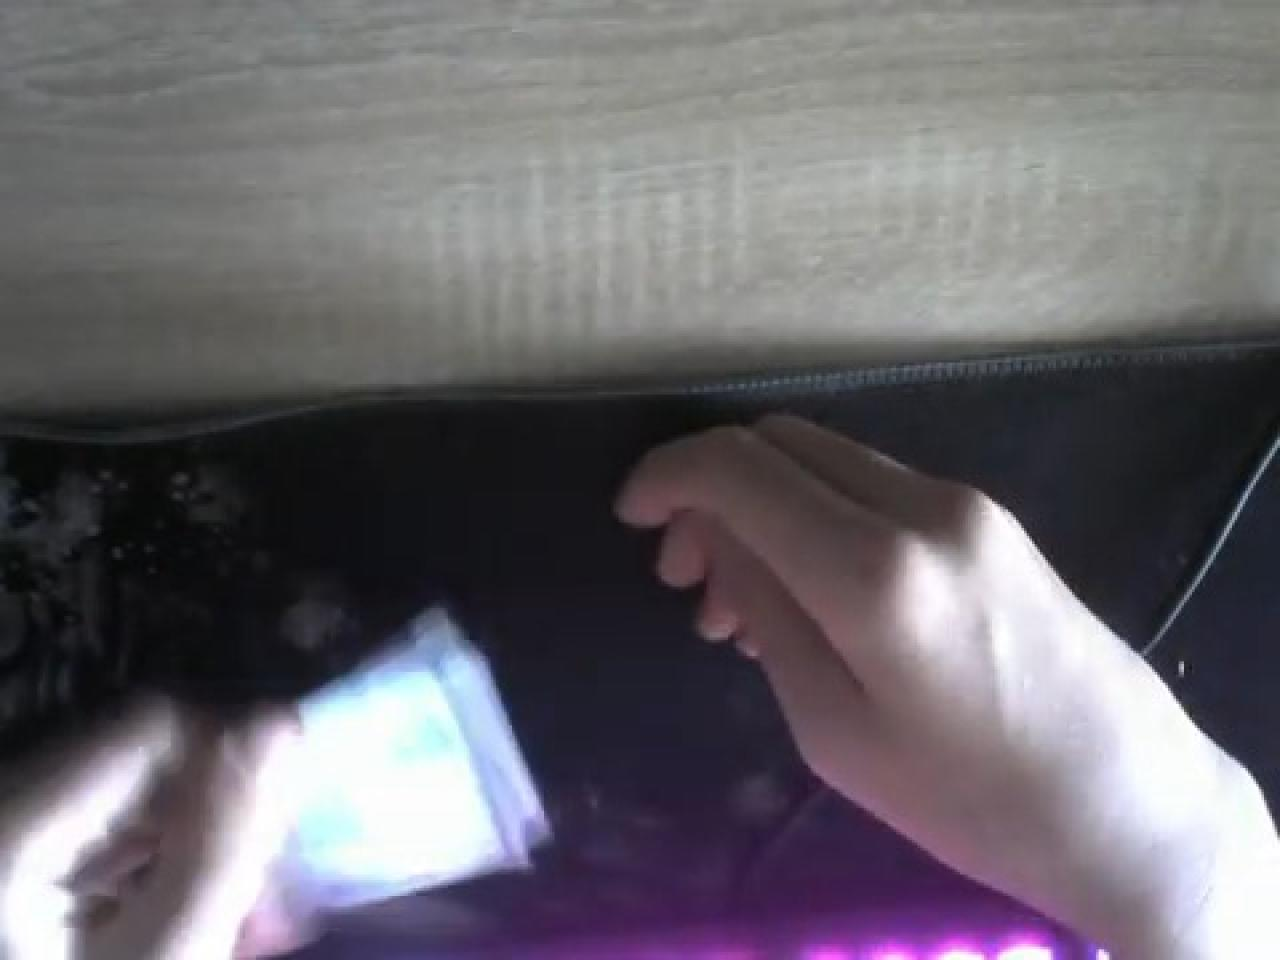20leva: (0, 568, 698, 960)
